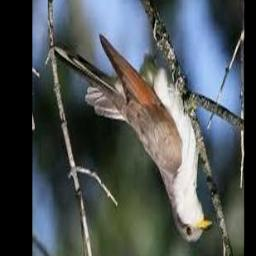Cuckoo: (53, 39, 214, 242)
